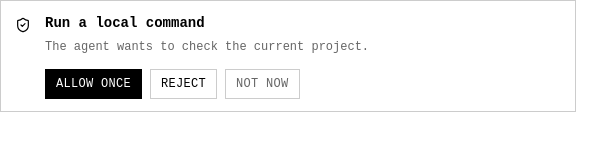
Test: InlineAgentActionCard › returns the exact ACP option id
This screenshot has width=593, height=160.
Expected: the text "Run a local command" is shown, [45,15,205,31]
Expected: the text "The agent wants to check the current project." is shown, [45,40,369,54]
Click the button "allow once": (94, 84) [45,69,142,99]
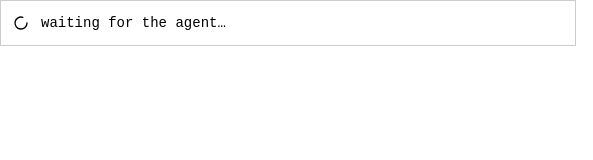
Expected: the text "waiting for the agent…" is shown, [41,13,226,33]
